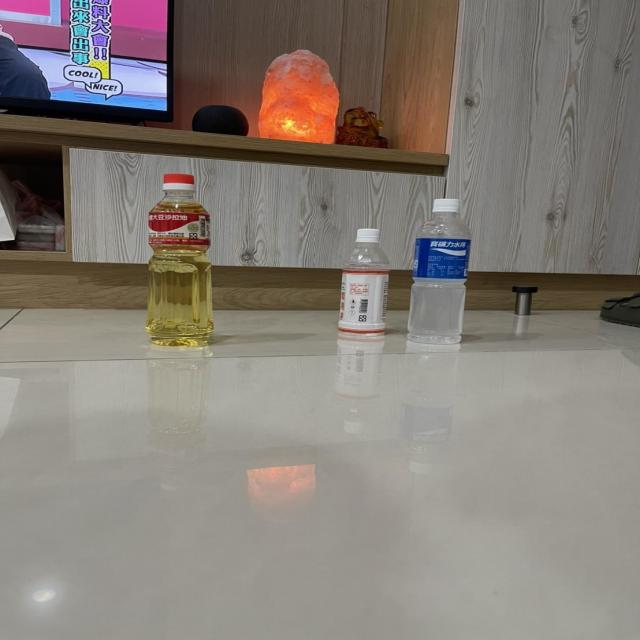bottle: (145, 168, 225, 358), (408, 194, 481, 358)
